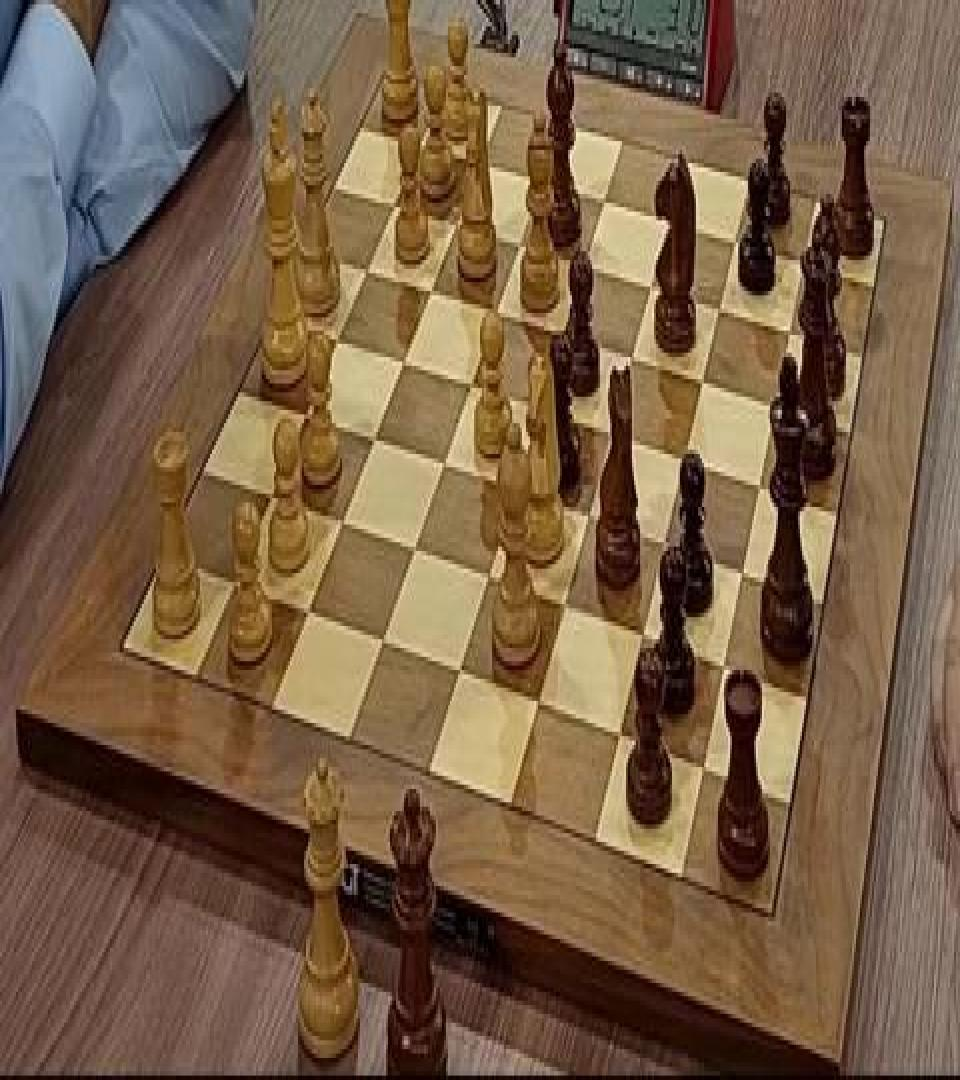xcorner: (796, 242, 810, 274), (677, 440, 691, 472), (603, 414, 617, 446), (657, 524, 671, 556), (296, 396, 310, 428), (333, 502, 347, 534), (612, 716, 626, 748), (728, 223, 742, 254), (662, 201, 676, 232), (597, 183, 611, 214), (533, 163, 547, 194), (410, 126, 424, 157), (782, 311, 796, 342), (712, 289, 726, 320), (644, 269, 658, 300), (577, 247, 591, 278), (511, 227, 525, 258), (447, 207, 461, 238), (385, 188, 399, 219), (422, 273, 436, 304), (357, 251, 371, 282), (752, 465, 766, 496), (532, 390, 546, 421), (462, 368, 476, 399), (394, 344, 408, 375), (735, 553, 749, 584), (581, 498, 595, 529), (435, 445, 449, 476), (365, 421, 379, 452), (635, 617, 649, 648), (557, 586, 571, 617), (406, 531, 420, 562), (262, 476, 276, 507), (696, 747, 710, 778), (530, 683, 544, 714), (451, 652, 465, 683), (299, 593, 313, 624), (226, 564, 240, 595), (471, 146, 485, 176), (768, 386, 782, 416), (695, 362, 709, 392), (624, 340, 638, 370), (555, 318, 569, 348), (488, 296, 502, 326), (328, 322, 342, 352), (507, 472, 521, 502), (716, 646, 730, 676), (480, 558, 494, 588), (374, 622, 388, 652)
